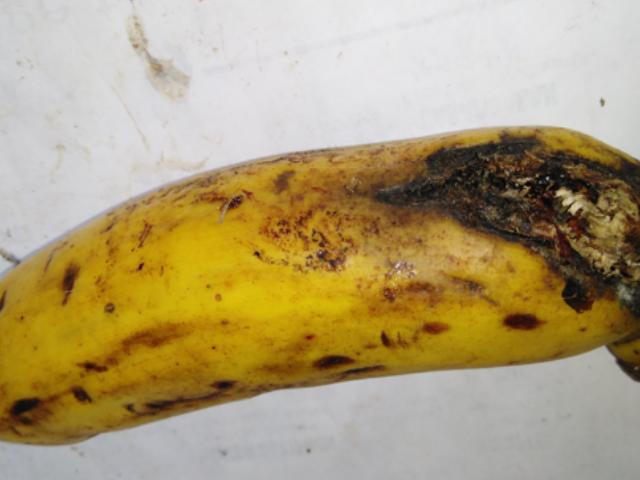ripe: (0, 134, 368, 443)
rotten: (309, 104, 639, 388)
